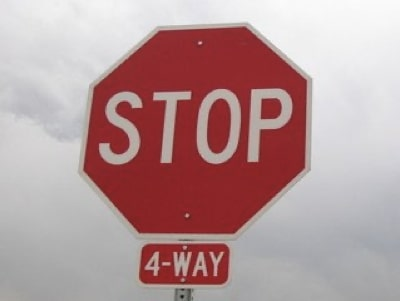StopSign: (76, 21, 314, 242)
